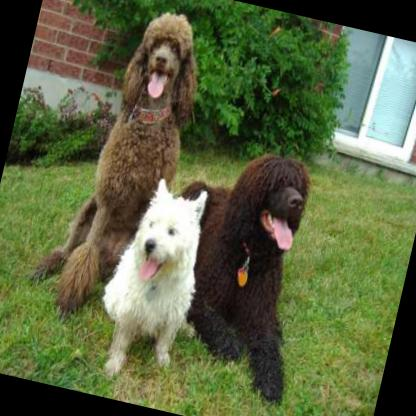Irish_water_spaniel: (19, 0, 214, 334), (136, 133, 336, 402)
